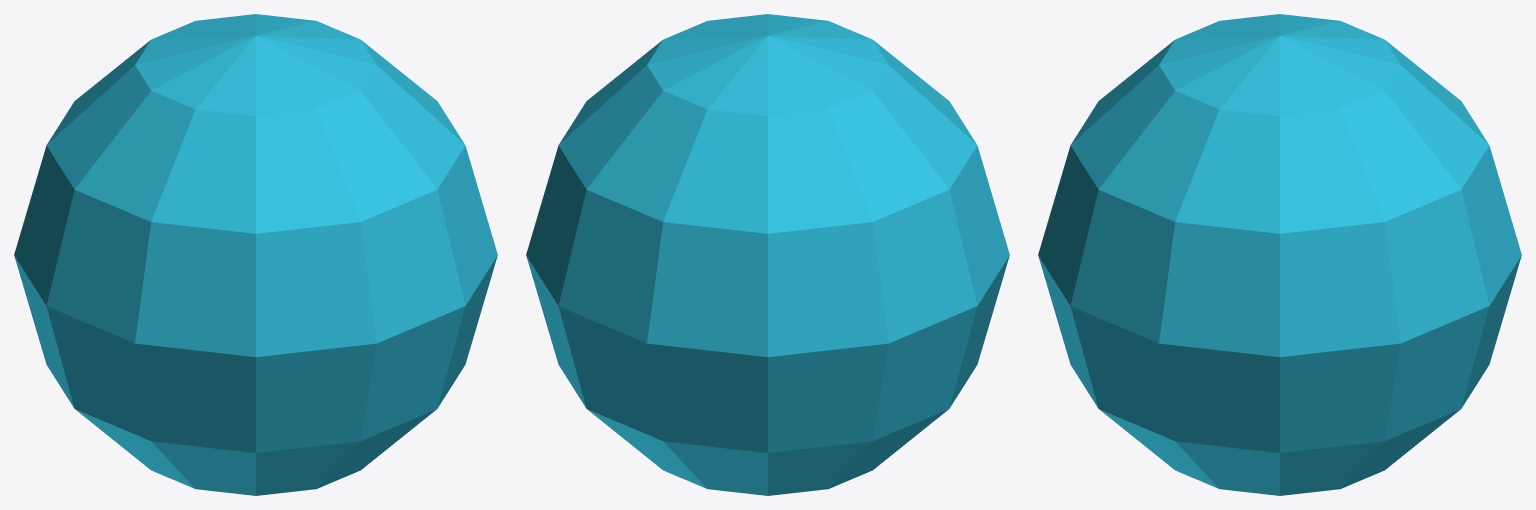
Rendered from grassOutbreakSource.gltf.
The picture shows the model from 3 angles, left to right: view 1: azimuth 30°, elevation 25°; view 2: azimuth 150°, elevation 25°; view 3: azimuth 270°, elevation 25°; orthographic projection.
Visible parts, largest first — view 1: 球; view 2: 球; view 3: 球.
Boxes of the visible parts, left/top/right/bottom form: 球: left=14, top=14, right=497, bottom=495; 球: left=526, top=14, right=1009, bottom=495; 球: left=1038, top=14, right=1521, bottom=495.
Bounding box in the file's own units: 0.1002 × 0.1002 × 0.1002.
Materials: 1 (1 with a texture image).
